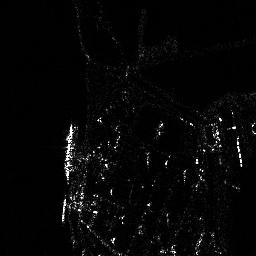ship: (62, 123, 77, 183), (59, 197, 68, 223)
